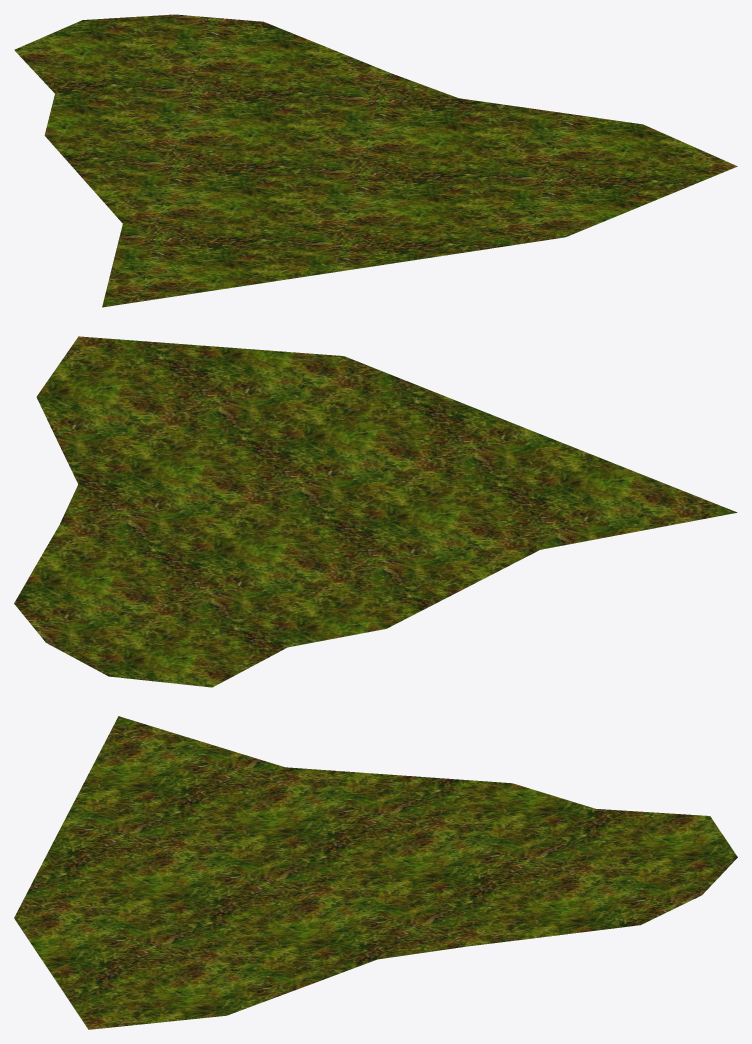
The model's file is TROLLHOLE02_RM_PSURF248.fbx.
The picture shows the model from 3 angles, top to bottom: view 1: azimuth 30°, elevation 25°; view 2: azimuth 150°, elevation 25°; view 3: azimuth 270°, elevation 25°; orthographic projection. The views are drawn at different scales.
Parts seen in each view (by area): view 1: TROLLHOLE02_RM_PSURF248; view 2: TROLLHOLE02_RM_PSURF248; view 3: TROLLHOLE02_RM_PSURF248.
Boxes of the visible parts, box(x1,y1,x2,y2) form: TROLLHOLE02_RM_PSURF248: box(14, 14, 737, 307); TROLLHOLE02_RM_PSURF248: box(14, 336, 737, 687); TROLLHOLE02_RM_PSURF248: box(14, 716, 737, 1029).
Bounding box in the file's own units: 72052 × 704 × 70255.
1 material, 1 textured.
